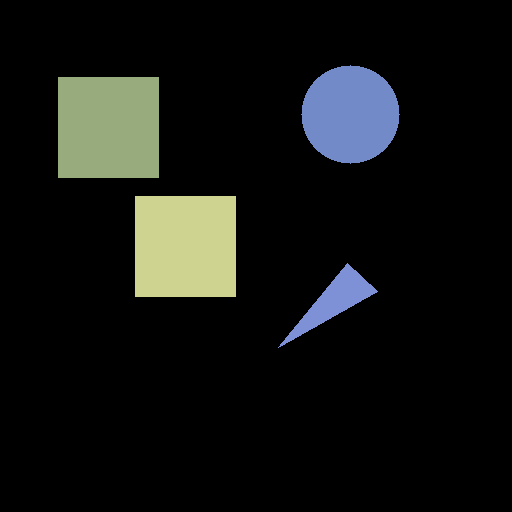circle: (301, 65, 399, 163)
square: (135, 196, 235, 296), (58, 77, 158, 177)
triangle: (278, 263, 377, 347)
